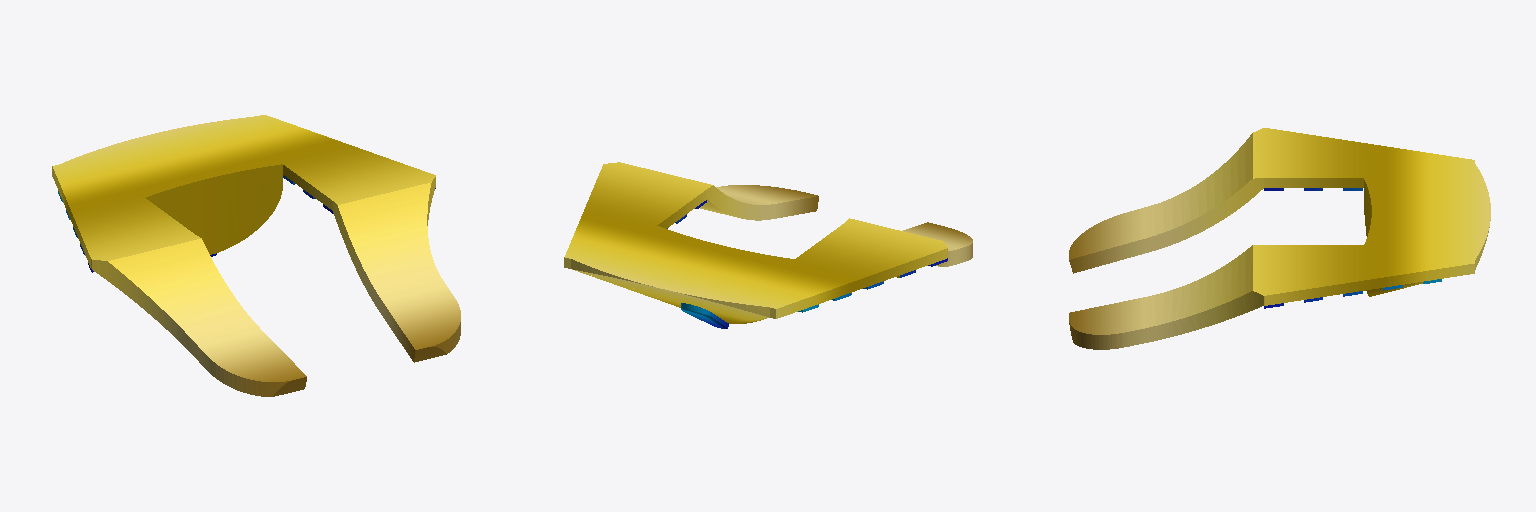
The picture shows the model from 3 angles: view 1: azimuth 30°, elevation 25°; view 2: azimuth 150°, elevation 25°; view 3: azimuth 270°, elevation 25°; orthographic projection.
Visible parts, largest first — view 1: Pharaoh_Headdress; view 2: Pharaoh_Headdress; view 3: Pharaoh_Headdress.
Part boxes in pixels (x1,y1,x2,y2): Pharaoh_Headdress: (52, 115, 460, 396); Pharaoh_Headdress: (564, 162, 972, 328); Pharaoh_Headdress: (1069, 128, 1490, 349).
Bounding box in the file's own units: 37.5 × 9.21 × 39.83.
Materials: 1 (1 with a texture image).